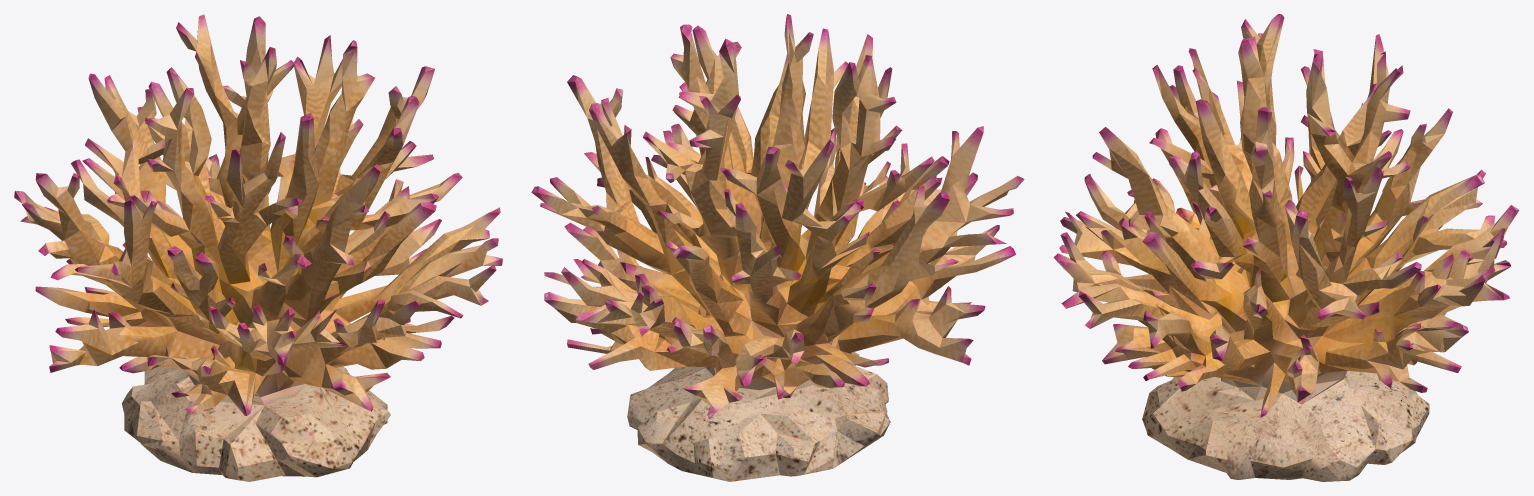
Rendered from coral-branch.glb.
3 renders of one model, left to right at view 1: azimuth 30°, elevation 25°; view 2: azimuth 150°, elevation 25°; view 3: azimuth 270°, elevation 25°, orthographic. The views are drawn at different scales.
Bounding box in the file's own units: 0.5659 × 0.5 × 0.5376.
Materials: 1 (1 with a texture image).
